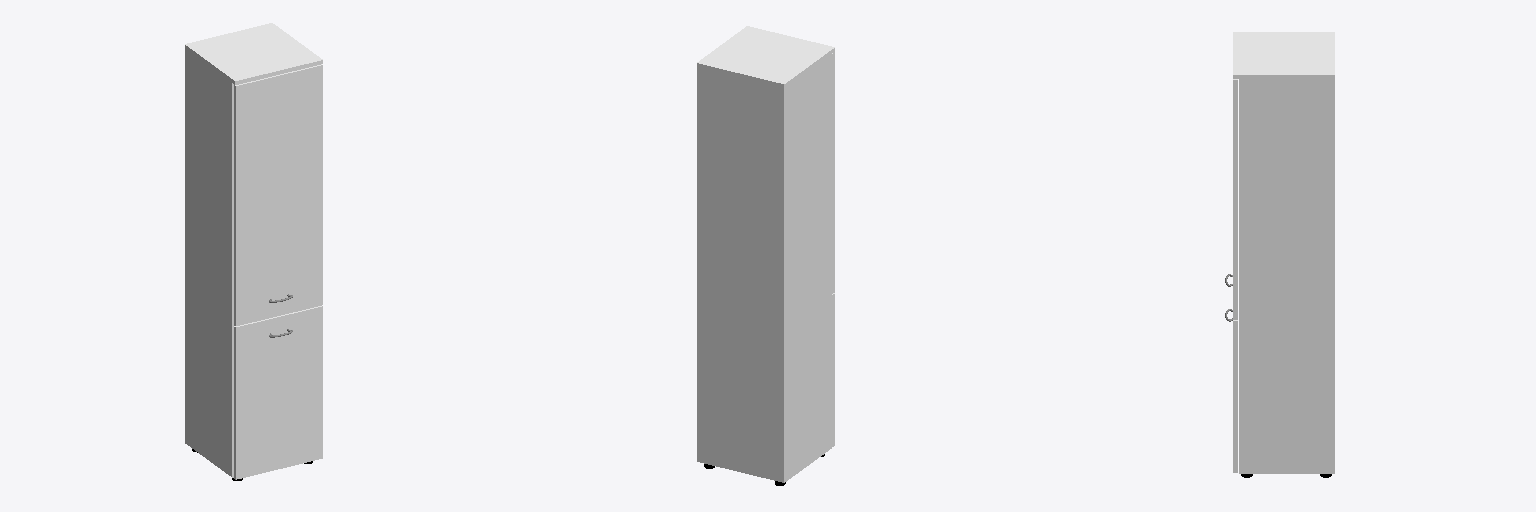
File: mobile45198W.obj
3 views of the same model, side by side, from view 1: azimuth 30°, elevation 25°; view 2: azimuth 150°, elevation 25°; view 3: azimuth 270°, elevation 25° (orthographic).
Parts seen in each view (by area): view 1: Box54_9, Box52_6, Box53_7, Box55_10; view 2: Box52_6, Box55_10, Box54_9; view 3: Box52_6, Box55_10, Box54_9, Box53_7.
Boxes of the visible parts, x1=… form: Box54_9: x1=234, y1=64, x2=322, y2=325; Box52_6: x1=185, y1=49, x2=233, y2=477; Box53_7: x1=234, y1=306, x2=322, y2=479; Box55_10: x1=185, y1=23, x2=322, y2=84; Box52_6: x1=697, y1=54, x2=831, y2=482; Box55_10: x1=697, y1=26, x2=834, y2=88; Box54_9: x1=832, y1=52, x2=834, y2=293; Box52_6: x1=1239, y1=79, x2=1334, y2=473; Box55_10: x1=1233, y1=32, x2=1334, y2=78; Box54_9: x1=1233, y1=79, x2=1237, y2=319; Box53_7: x1=1233, y1=320, x2=1237, y2=472.
Bounding box in the file's own units: 45 × 198 × 48.75.